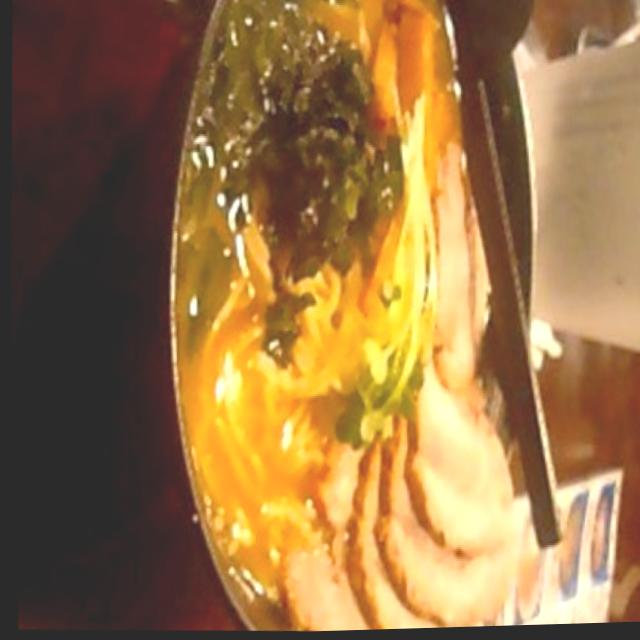面条主食: (106, 0, 565, 638)
